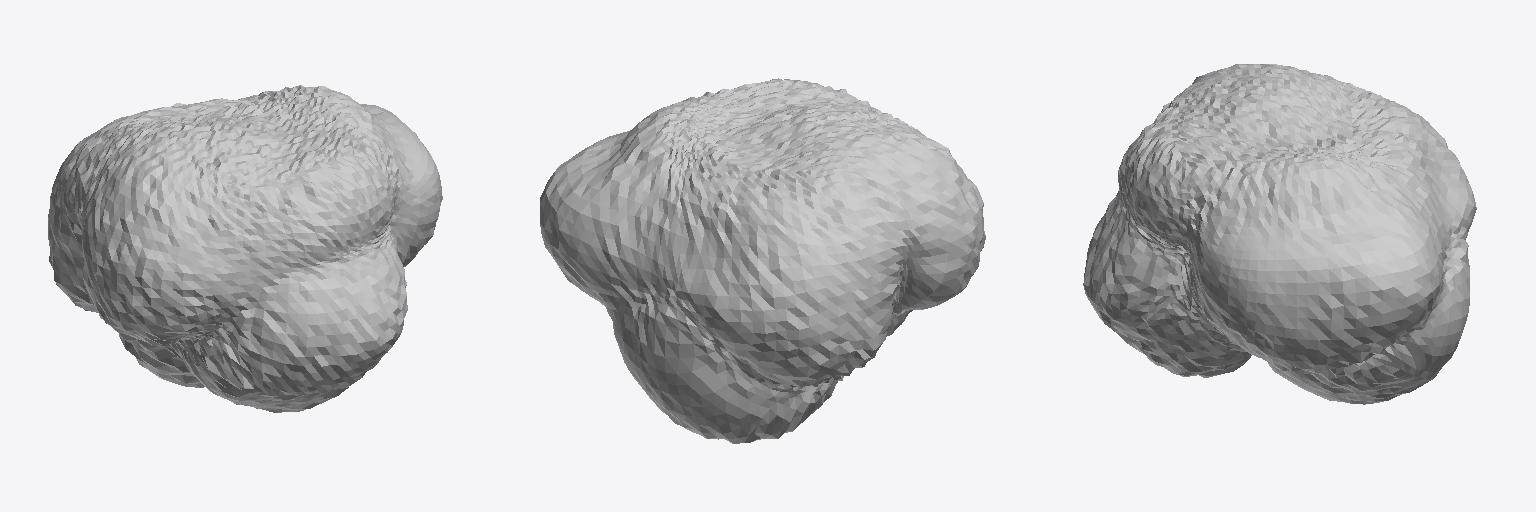
File: TreeLZead.obj
The picture shows the model from 3 angles: view 1: azimuth 30°, elevation 25°; view 2: azimuth 150°, elevation 25°; view 3: azimuth 270°, elevation 25°; orthographic projection.
Visible parts, largest first — view 1: Cube_Cube.002; view 2: Cube_Cube.002; view 3: Cube_Cube.002.
Boxes of the visible parts, x1=… form: Cube_Cube.002: x1=48, y1=85, x2=442, y2=412; Cube_Cube.002: x1=540, y1=78, x2=985, y2=443; Cube_Cube.002: x1=1083, y1=64, x2=1476, y2=404.
Bounding box in the file's own units: 5.23 × 3.95 × 4.86.